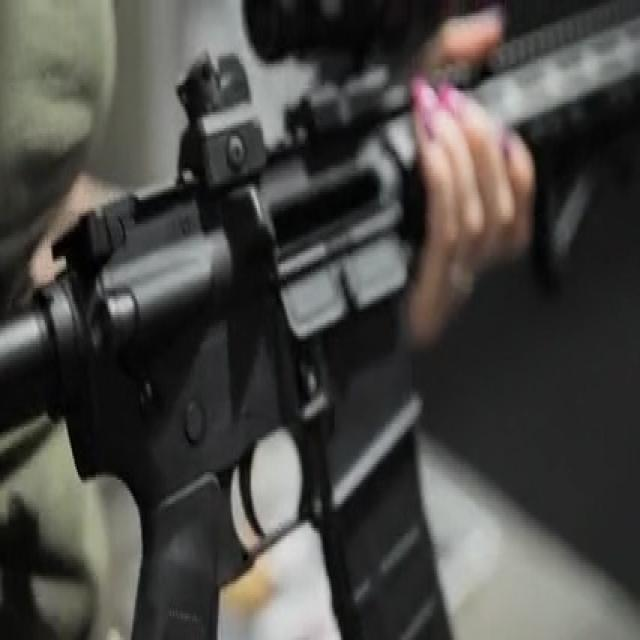Gun_Holder: (13, 1, 640, 640)
